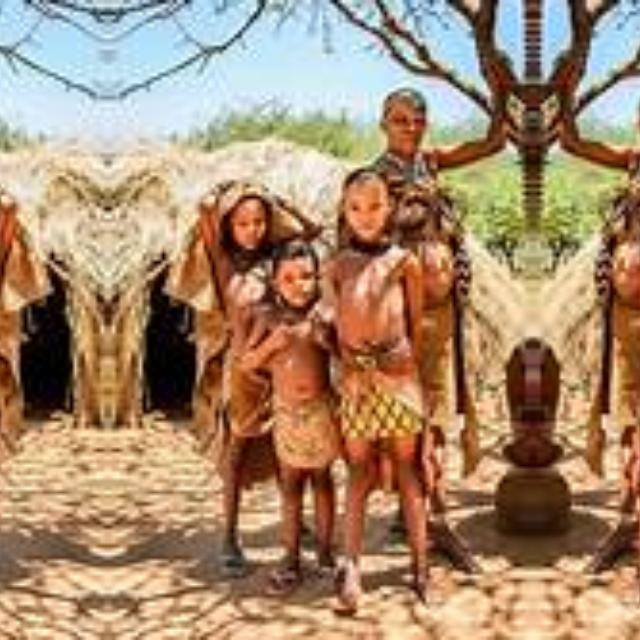person: (317, 176, 433, 592), (164, 165, 286, 333), (252, 244, 340, 442), (0, 165, 49, 333), (377, 86, 435, 206), (631, 176, 640, 592), (629, 86, 640, 205)
